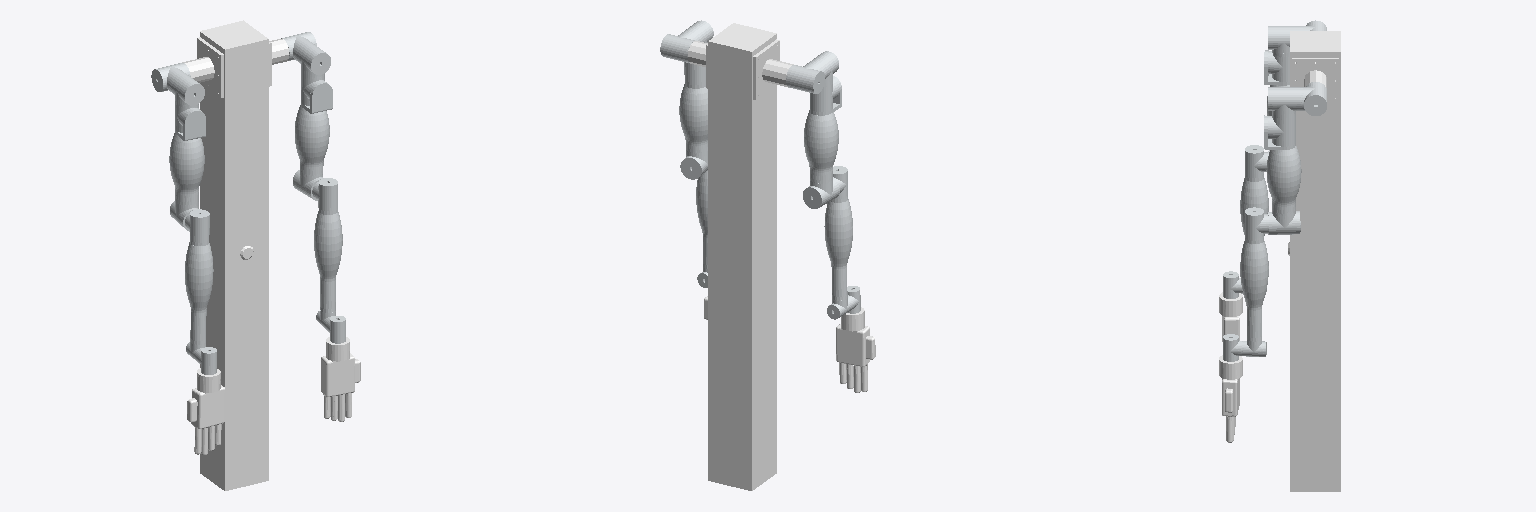
The robot description file, URDF, robot "hustdoublearm":
<robot
  name="hustdoublearm">
  <link name="world"/>
  <joint name="fixed" type="fixed">
    <parent link="world"/>
    <child link="base_link"/> 
  </joint>
  <link
    name="base_link">
    <inertial>
      <origin
        xyz="0 0 0.63203"
        rpy="0 0 0" />
      <mass
        value="20.813" />
      <inertia
        ixx="2.7544"
        ixy="0"
        ixz="0"
        iyy="2.7597"
        iyz="0"
        izz="0.061219" />
    </inertial>
    <visual>
      <origin
        xyz="0 0 0"
        rpy="0 0 0" />
      <geometry>
        <mesh
          filename="package://hustdoublearm/meshes/base_link.STL" />
      </geometry>
      <material
        name="">
        <color
          rgba="1 1 1 1" />
      </material>
    </visual>
    <collision>
      <origin
        xyz="0 0 0"
        rpy="0 0 0" />
      <geometry>
        <mesh
          filename="package://hustdoublearm/meshes/base_link.STL" />
      </geometry>
    </collision>
  </link>
  <link
    name="right_link1">
    <inertial>
      <origin
        xyz="0.0042186 0 0.00084454"
        rpy="0 0 0" />
      <mass
        value="0.68868" />
      <inertia
        ixx="0.00048923"
        ixy="0"
        ixz="0"
        iyy="0"
        iyz="0"
        izz="0.00038496" />
    </inertial>
    <visual>
      <origin
        xyz="0 0 0"
        rpy="0 0 0" />
      <geometry>
        <mesh
          filename="package://hustdoublearm/meshes/right_link1.STL" />
      </geometry>
      <material
        name="">
        <color
          rgba="0.89804 0.91765 0.92941 1" />
      </material>
    </visual>
    <collision>
      <origin
        xyz="0 0 0"
        rpy="0 0 0" />
      <geometry>
        <mesh
          filename="package://hustdoublearm/meshes/right_link1.STL" />
      </geometry>
    </collision>
  </link>
  <joint
    name="right_joint1"
    type="revolute">
    <origin
      xyz="-0.184 0 1.155"
      rpy="1.5708 -0.0011298 -1.5708" />
    <parent
      link="base_link" />
    <child
      link="right_link1" />
    <axis
      xyz="0 0 -1" />
    <limit 
    lower="-3.14"       
    upper="3.14"
    effort="1000"
    velocity="100" />
  </joint>
  <link
    name="right_link2">
    <inertial>
      <origin
        xyz="0.0042186 0 0.00084454"
        rpy="0 0 0" />
      <mass
        value="0.68868" />
      <inertia
        ixx="0.00048923"
        ixy="0"
        ixz="0"
        iyy="0"
        iyz="0"
        izz="0.00038496" />
    </inertial>
    <visual>
      <origin
        xyz="0 0 0"
        rpy="0 0 0" />
      <geometry>
        <mesh
          filename="package://hustdoublearm/meshes/right_link2.STL" />
      </geometry>
      <material
        name="">
        <color
          rgba="0.89804 0.91765 0.92941 1" />
      </material>
    </visual>
    <collision>
      <origin
        xyz="0 0 0"
        rpy="0 0 0" />
      <geometry>
        <mesh
          filename="package://hustdoublearm/meshes/right_link2.STL" />
      </geometry>
    </collision>
  </link>
  <joint
    name="right_joint2"
    type="revolute">
    <origin
      xyz="0.08 0 0"
      rpy="-1.5708 0.00082791 -1.5708" />
    <parent
      link="right_link1" />
    <child
      link="right_link2" />
    <axis
      xyz="0 0 -1" />
    <limit 
    lower="-3.14"       
    upper="3.14"
    effort="1000"
  velocity="100" />
  </joint>
  <link
    name="right_link3">
    <inertial>
      <origin
        xyz="0.0024759 0 -0.14834"
        rpy="0 0 0" />
      <mass
        value="3.131" />
      <inertia
        ixx="0.033509"
        ixy="0"
        ixz="0.0010795"
        iyy="0.033898"
        iyz="0"
        izz="0.0022582" />
    </inertial>
    <visual>
      <origin
        xyz="0 0 0"
        rpy="0 0 0" />
      <geometry>
        <mesh
          filename="package://hustdoublearm/meshes/right_link3.STL" />
      </geometry>
      <material
        name="">
        <color
          rgba="0.89804 0.91765 0.92941 1" />
      </material>
    </visual>
    <collision>
      <origin
        xyz="0 0 0"
        rpy="0 0 0" />
      <geometry>
        <mesh
          filename="package://hustdoublearm/meshes/right_link3.STL" />
      </geometry>
    </collision>
  </link>
  <joint
    name="right_joint3"
    type="revolute">
    <origin
      xyz="0.35 0 0"
      rpy="-1.5708 -1.4847 -1.5708" />
    <parent
      link="right_link2" />
    <child
      link="right_link3" />
    <axis
      xyz="0 0 -1" />
    <limit 
    lower="-3.14"       
    upper="3.14"
    effort="1000"
    velocity="100" />
  </joint>
  <link
    name="right_link4">
    <inertial>
      <origin
        xyz="-0.0012304 0 -0.0035566"
        rpy="0 0 0" />
      <mass
        value="0.41012" />
      <inertia
        ixx="0.00016028"
        ixy="0"
        ixz="0"
        iyy="0"
        iyz="0"
        izz="0.00021033" />
    </inertial>
    <visual>
      <origin
        xyz="0 0 0"
        rpy="0 0 0" />
      <geometry>
        <mesh
          filename="package://hustdoublearm/meshes/right_link4.STL" />
      </geometry>
      <material
        name="">
        <color
          rgba="0.89804 0.91765 0.92941 1" />
      </material>
    </visual>
    <collision>
      <origin
        xyz="0 0 0"
        rpy="0 0 0" />
      <geometry>
        <mesh
          filename="package://hustdoublearm/meshes/right_link4.STL" />
      </geometry>
    </collision>
  </link>
  <joint
    name="right_joint4"
    type="revolute">
    <origin
      xyz="0.075 0 0"
      rpy="1.5708 -1.5567 1.5708" />
    <parent
      link="right_link3" />
    <child
      link="right_link4" />
    <axis
      xyz="0 0 -1" />
    <limit 
    lower="-3.14"       
    upper="3.14"
    effort="1000"
    velocity="100" />
  </joint>
  <link
    name="right_link5">
    <inertial>
      <origin
        xyz="-0.00017625 0 -0.16373"
        rpy="0 0 0" />
      <mass
        value="1.2638" />
      <inertia
        ixx="0.012836"
        ixy="0"
        ixz="0"
        iyy="0"
        iyz="0"
        izz="0.00058313" />
    </inertial>
    <visual>
      <origin
        xyz="0 0 0"
        rpy="0 0 0" />
      <geometry>
        <mesh
          filename="package://hustdoublearm/meshes/right_link5.STL" />
      </geometry>
      <material
        name="">
        <color
          rgba="0.89804 0.91765 0.92941 1" />
      </material>
    </visual>
    <collision>
      <origin
        xyz="0 0 0"
        rpy="0 0 0" />
      <geometry>
        <mesh
          filename="package://hustdoublearm/meshes/right_link5.STL" />
      </geometry>
    </collision>
  </link>
  <joint
    name="right_joint5"
    type="revolute">
    <origin
      xyz="0.35 0 0"
      rpy="1.5708 -1.5342 1.5708" />
    <parent
      link="right_link4" />
    <child
      link="right_link5" />
    <axis
      xyz="0 0 -1" />
    <limit 
    lower="-3.14"       
    upper="3.14"
    effort="1000"
    velocity="100" />
  </joint>
  <link
    name="right_link6">
    <inertial>
      <origin
        xyz="-0.00097738 0 -0.0033271"
        rpy="0 0 0" />
      <mass
        value="0.2279" />
      <inertia
        ixx="0.000059519"
        ixy="0"
        ixz="0"
        iyy="0"
        iyz="0"
        izz="0.000081241" />
    </inertial>
    <visual>
      <origin
        xyz="0 0 0"
        rpy="0 0 0" />
      <geometry>
        <mesh
          filename="package://hustdoublearm/meshes/right_link6.STL" />
      </geometry>
      <material
        name="">
        <color
          rgba="0.89804 0.91765 0.92941 1" />
      </material>
    </visual>
    <collision>
      <origin
        xyz="0 0 0"
        rpy="0 0 0" />
      <geometry>
        <mesh
          filename="package://hustdoublearm/meshes/right_link6.STL" />
      </geometry>
    </collision>
  </link>
  <joint
    name="right_joint6"
    type="revolute">
    <origin
      xyz="0.06 0 0"
      rpy="1.5708 -1.5707 1.5708" />
    <parent
      link="right_link5" />
    <child
      link="right_link6" />
    <axis
      xyz="0 0 -1" />
    <limit 
    lower="-3.14"       
    upper="3.14"
    effort="1000"
    velocity="100" />
  </joint>
  <link
    name="right_link7">
    <inertial>
      <origin
        xyz="0 0.0023807 0.093766"
        rpy="0 0 0" />
      <mass
        value="0.56698" />
      <inertia
        ixx="0.0018193"
        ixy="0"
        ixz="0"
        iyy="0"
        iyz="0"
        izz="0.00038792" />
    </inertial>
    <visual>
      <origin
        xyz="0 0 0"
        rpy="0 0 0" />
      <geometry>
        <mesh
          filename="package://hustdoublearm/meshes/right_link7.STL" />
      </geometry>
      <material
        name="">
        <color
          rgba="1 1 1 1" />
      </material>
    </visual>
    <collision>
      <origin
        xyz="0 0 0"
        rpy="0 0 0" />
      <geometry>
        <mesh
          filename="package://hustdoublearm/meshes/right_link7.STL" />
      </geometry>
    </collision>
  </link>
  <joint
    name="right_joint7"
    type="revolute">
    <origin
      xyz="0.03 0 0"
      rpy="1.5708 -1.4552 1.5708" />
    <parent
      link="right_link6" />
    <child
      link="right_link7" />
    <axis
      xyz="0 0 1" />
    <limit 
    lower="-3.14"       
    upper="3.14"
    effort="1000"
    velocity="100" />
  </joint>

  <link
    name="left_link1">
    <inertial>
      <origin
        xyz="0.0042186 0 0.00084454"
        rpy="0 0 0" />
      <mass
        value="0.68868" />
      <inertia
        ixx="0.00048923"
        ixy="0"
        ixz="0"
        iyy="0"
        iyz="0"
        izz="0.00038496" />
    </inertial>
    <visual>
      <origin
        xyz="0 0 0"
        rpy="0 0 0" />
      <geometry>
        <mesh
          filename="package://hustdoublearm/meshes/left_link1.STL" />
      </geometry>
      <material
        name="">
        <color
          rgba="0.89804 0.91765 0.92941 1" />
      </material>
    </visual>
    <collision>
      <origin
        xyz="0 0 0"
        rpy="0 0 0" />
      <geometry>
        <mesh
          filename="package://hustdoublearm/meshes/left_link1.STL" />
      </geometry>
    </collision>
  </link>
  <joint
    name="left_joint1"
    type="revolute">
    <origin
      xyz="0.184 0 1.155"
      rpy="-1.5708 -0.0015412 -1.5708" />
    <parent
      link="base_link" />
    <child
      link="left_link1" />
    <axis
      xyz="0 0 -1" />
    <limit 
    lower="-3.14"       
    upper="3.14"
    effort="1000"
    velocity="100" />
  </joint>
  <link
    name="left_link2">
    <inertial>
      <origin
        xyz="0.0042186 0 0.00084454"
        rpy="0 0 0" />
      <mass
        value="0.68868" />
      <inertia
        ixx="0.00048923"
        ixy="0"
        ixz="0"
        iyy="0"
        iyz="0"
        izz="0.00038496" />
    </inertial>
    <visual>
      <origin
        xyz="0 0 0"
        rpy="0 0 0" />
      <geometry>
        <mesh
          filename="package://hustdoublearm/meshes/left_link2.STL" />
      </geometry>
      <material
        name="">
        <color
          rgba="0.89804 0.91765 0.92941 1" />
      </material>
    </visual>
    <collision>
      <origin
        xyz="0 0 0"
        rpy="0 0 0" />
      <geometry>
        <mesh
          filename="package://hustdoublearm/meshes/left_link2.STL" />
      </geometry>
    </collision>
  </link>
  <joint
    name="left_joint2"
    type="revolute">
    <origin
      xyz="0.08 0 0"
      rpy="1.5708 0.016458 1.5708" />
    <parent
      link="left_link1" />
    <child
      link="left_link2" />
    <axis
      xyz="0 0 -1" />
    <limit 
    lower="-3.14"       
    upper="3.14"
    effort="1000"
    velocity="100" />
  </joint>
  <link
    name="left_link3">
    <inertial>
      <origin
        xyz="0.0024641 0.00025279 -0.14054"
        rpy="0 0 0" />
      <mass
        value="3.131" />
      <inertia
        ixx="0.03158"
        ixy="0"
        ixz="0.0010523"
        iyy="0.031965"
        iyz="0"
        izz="0.0022582" />
    </inertial>
    <visual>
      <origin
        xyz="0 0 0"
        rpy="0 0 0" />
      <geometry>
        <mesh
          filename="package://hustdoublearm/meshes/left_link3.STL" />
      </geometry>
      <material
        name="">
        <color
          rgba="0.89804 0.91765 0.92941 1" />
      </material>
    </visual>
    <collision>
      <origin
        xyz="0 0 0"
        rpy="0 0 0" />
      <geometry>
        <mesh
          filename="package://hustdoublearm/meshes/left_link3.STL" />
      </geometry>
    </collision>
  </link>
  <joint
    name="left_joint3"
    type="revolute">
    <origin
      xyz="0.35 0 0"
      rpy="1.5708 -1.4847 1.5708" />
    <parent
      link="left_link2" />
    <child
      link="left_link3" />
    <axis
      xyz="0 0 -1" />
    <limit 
    lower="-3.14"       
    upper="3.14"
    effort="1000"
    velocity="100" />
  </joint>
  <link
    name="left_link4">
    <inertial>
      <origin
        xyz="-0.0012304 0 -0.0035566"
        rpy="0 0 0" />
      <mass
        value="0.41012" />
      <inertia
        ixx="0.00016028"
        ixy="0"
        ixz="0"
        iyy="0"
        iyz="0"
        izz="0.00021033" />
    </inertial>
    <visual>
      <origin
        xyz="0 0 0"
        rpy="0 0 0" />
      <geometry>
        <mesh
          filename="package://hustdoublearm/meshes/left_link4.STL" />
      </geometry>
      <material
        name="">
        <color
          rgba="0.89804 0.91765 0.92941 1" />
      </material>
    </visual>
    <collision>
      <origin
        xyz="0 0 0"
        rpy="0 0 0" />
      <geometry>
        <mesh
          filename="package://hustdoublearm/meshes/left_link4.STL" />
      </geometry>
    </collision>
  </link>
  <joint
    name="left_joint4"
    type="revolute">
    <origin
      xyz="0.075 0 0"
      rpy="-1.5708 -1.5567 -1.5708" />
    <parent
      link="left_link3" />
    <child
      link="left_link4" />
    <axis
      xyz="0 0 -1" />
    <limit 
    lower="-3.14"       
    upper="3.14"
    effort="1000"
    velocity="100" />
  </joint>
  <link
    name="left_link5">
    <inertial>
      <origin
        xyz="-0.00017625 0 -0.16373"
        rpy="0 0 0" />
      <mass
        value="1.2638" />
      <inertia
        ixx="0.012836"
        ixy="0"
        ixz="0"
        iyy="0"
        iyz="0"
        izz="0.00058313" />
    </inertial>
    <visual>
      <origin
        xyz="0 0 0"
        rpy="0 0 0" />
      <geometry>
        <mesh
          filename="package://hustdoublearm/meshes/left_link5.STL" />
      </geometry>
      <material
        name="">
        <color
          rgba="0.89804 0.91765 0.92941 1" />
      </material>
    </visual>
    <collision>
      <origin
        xyz="0 0 0"
        rpy="0 0 0" />
      <geometry>
        <mesh
          filename="package://hustdoublearm/meshes/left_link5.STL" />
      </geometry>
    </collision>
  </link>
  <joint
    name="left_joint5"
    type="revolute">
    <origin
      xyz="0.35 0 0"
      rpy="-1.5708 -1.3914 -1.5708" />
    <parent
      link="left_link4" />
    <child
      link="left_link5" />
    <axis
      xyz="0 0 -1" />
    <limit 
    lower="-3.14"       
    upper="3.14"
    effort="1000"
    velocity="100" />
  </joint>
  <link
    name="left_link6">
    <inertial>
      <origin
        xyz="-0.00097738 0 -0.0033271"
        rpy="0 0 0" />
      <mass
        value="0.2279" />
      <inertia
        ixx="0.000059519"
        ixy="0"
        ixz="0"
        iyy="0"
        iyz="0"
        izz="0.000081241" />
    </inertial>
    <visual>
      <origin
        xyz="0 0 0"
        rpy="0 0 0" />
      <geometry>
        <mesh
          filename="package://hustdoublearm/meshes/left_link6.STL" />
      </geometry>
      <material
        name="">
        <color
          rgba="0.89804 0.91765 0.92941 1" />
      </material>
    </visual>
    <collision>
      <origin
        xyz="0 0 0"
        rpy="0 0 0" />
      <geometry>
        <mesh
          filename="package://hustdoublearm/meshes/left_link6.STL" />
      </geometry>
    </collision>
  </link>
  <joint
    name="left_joint6"
    type="revolute">
    <origin
      xyz="0.06 0 0"
      rpy="-0.83867 -1.5708 -2.3029" />
    <parent
      link="left_link5" />
    <child
      link="left_link6" />
    <axis
      xyz="0 0 -1" />
    <limit 
    lower="-3.14"      
     upper="3.14"
    effort="1000"
    velocity="100" />
  </joint>
  <link
    name="left_link7">
    <inertial>
      <origin
        xyz="-0.0023807 0 0.093766"
        rpy="0 0 0" />
      <mass
        value="0.56698" />
      <inertia
        ixx="0.0015848"
        ixy="0"
        ixz="0"
        iyy="0"
        iyz="0"
        izz="0.00038792" />
    </inertial>
    <visual>
      <origin
        xyz="0 0 0"
        rpy="0 0 0" />
      <geometry>
        <mesh
          filename="package://hustdoublearm/meshes/left_link7.STL" />
      </geometry>
      <material
        name="">
        <color
          rgba="1 1 1 1" />
      </material>
    </visual>
    <collision>
      <origin
        xyz="0 0 0"
        rpy="0 0 0" />
      <geometry>
        <mesh
          filename="package://hustdoublearm/meshes/left_link7.STL" />
      </geometry>
    </collision>
  </link>
  <joint
    name="left_joint7"
    type="revolute">
    <origin
      xyz="0.03 0 0"
      rpy="-1.5708 0 -1.5708" />
    <parent
      link="left_link6" />
    <child
      link="left_link7" />
    <axis
      xyz="0 0 1" />
    <limit 
    lower="-3.14"       
    upper="3.14"
    effort="1000"
    velocity="100" />
  </joint>

  <transmission name="left_tran1">
    <type>transmission_interface/SimpleTransmission</type>
    <joint name="left_joint1">
      <hardwareInterface>hardware_interface/VelocityJointInterface</hardwareInterface>
    </joint>
    <actuator name="left_motor1">
      <hardwareInterface>hardware_interface/VelocityJointInterface</hardwareInterface>
      <mechanicalReduction>1</mechanicalReduction>
    </actuator>
  </transmission>
  <transmission name="left_tran2">
    <type>transmission_interface/SimpleTransmission</type>
    <joint name="left_joint2">
      <hardwareInterface>hardware_interface/VelocityJointInterface</hardwareInterface>
    </joint>
    <actuator name="left_motor2">
      <hardwareInterface>hardware_interface/VelocityJointInterface</hardwareInterface>
      <mechanicalReduction>1</mechanicalReduction>
    </actuator>
  </transmission>
  <transmission name="left_tran3">
    <type>transmission_interface/SimpleTransmission</type>
    <joint name="left_joint3">
      <hardwareInterface>hardware_interface/VelocityJointInterface</hardwareInterface>
    </joint>
    <actuator name="left_motor3">
      <hardwareInterface>hardware_interface/VelocityJointInterface</hardwareInterface>
      <mechanicalReduction>1</mechanicalReduction>
    </actuator>
  </transmission>
  <transmission name="left_tran4">
    <type>transmission_interface/SimpleTransmission</type>
    <joint name="left_joint4">
      <hardwareInterface>hardware_interface/VelocityJointInterface</hardwareInterface>
    </joint>
    <actuator name="left_motor4">
      <hardwareInterface>hardware_interface/VelocityJointInterface</hardwareInterface>
      <mechanicalReduction>1</mechanicalReduction>
    </actuator>
  </transmission>
  <transmission name="left_tran5">
    <type>transmission_interface/SimpleTransmission</type>
    <joint name="left_joint5">
      <hardwareInterface>hardware_interface/VelocityJointInterface</hardwareInterface>
    </joint>
    <actuator name="left_motor5">
      <hardwareInterface>hardware_interface/VelocityJointInterface</hardwareInterface>
      <mechanicalReduction>1</mechanicalReduction>
    </actuator>
  </transmission>
  <transmission name="left_tran6">
    <type>transmission_interface/SimpleTransmission</type>
    <joint name="left_joint6">
      <hardwareInterface>hardware_interface/VelocityJointInterface</hardwareInterface>
    </joint>
    <actuator name="left_motor6">
      <hardwareInterface>hardware_interface/VelocityJointInterface</hardwareInterface>
      <mechanicalReduction>1</mechanicalReduction>
    </actuator>
  </transmission>
  <transmission name="left_tran7">
    <type>transmission_interface/SimpleTransmission</type>
    <joint name="left_joint7">
      <hardwareInterface>hardware_interface/VelocityJointInterface</hardwareInterface>
    </joint>
    <actuator name="left_motor7">
      <hardwareInterface>hardware_interface/VelocityJointInterface</hardwareInterface>
      <mechanicalReduction>1</mechanicalReduction>
    </actuator>
  </transmission>

  <transmission name="right_tran1">
    <type>transmission_interface/SimpleTransmission</type>
    <joint name="right_joint1">
      <hardwareInterface>hardware_interface/VelocityJointInterface</hardwareInterface>
    </joint>
    <actuator name="right_motor1">
      <hardwareInterface>hardware_interface/VelocityJointInterface</hardwareInterface>
      <mechanicalReduction>1</mechanicalReduction>
    </actuator>
  </transmission>
  <transmission name="right_tran2">
    <type>transmission_interface/SimpleTransmission</type>
    <joint name="right_joint2">
      <hardwareInterface>hardware_interface/VelocityJointInterface</hardwareInterface>
    </joint>
    <actuator name="right_motor2">
      <hardwareInterface>hardware_interface/VelocityJointInterface</hardwareInterface>
      <mechanicalReduction>1</mechanicalReduction>
    </actuator>
  </transmission>
  <transmission name="right_tran3">
    <type>transmission_interface/SimpleTransmission</type>
    <joint name="right_joint3">
      <hardwareInterface>hardware_interface/VelocityJointInterface</hardwareInterface>
    </joint>
    <actuator name="right_motor3">
      <hardwareInterface>hardware_interface/VelocityJointInterface</hardwareInterface>
      <mechanicalReduction>1</mechanicalReduction>
    </actuator>
  </transmission>
  <transmission name="right_tran4">
    <type>transmission_interface/SimpleTransmission</type>
    <joint name="right_joint4">
      <hardwareInterface>hardware_interface/VelocityJointInterface</hardwareInterface>
    </joint>
    <actuator name="right_motor4">
      <hardwareInterface>hardware_interface/VelocityJointInterface</hardwareInterface>
      <mechanicalReduction>1</mechanicalReduction>
    </actuator>
  </transmission>
  <transmission name="right_tran5">
    <type>transmission_interface/SimpleTransmission</type>
    <joint name="right_joint5">
      <hardwareInterface>hardware_interface/VelocityJointInterface</hardwareInterface>
    </joint>
    <actuator name="right_motor5">
      <hardwareInterface>hardware_interface/VelocityJointInterface</hardwareInterface>
      <mechanicalReduction>1</mechanicalReduction>
    </actuator>
  </transmission>
  <transmission name="right_tran6">
    <type>transmission_interface/SimpleTransmission</type>
    <joint name="right_joint6">
      <hardwareInterface>hardware_interface/VelocityJointInterface</hardwareInterface>
    </joint>
    <actuator name="right_motor6">
      <hardwareInterface>hardware_interface/VelocityJointInterface</hardwareInterface>
      <mechanicalReduction>1</mechanicalReduction>
    </actuator>
  </transmission>
  <transmission name="right_tran7">
    <type>transmission_interface/SimpleTransmission</type>
    <joint name="right_joint7">
      <hardwareInterface>hardware_interface/VelocityJointInterface</hardwareInterface>
    </joint>
    <actuator name="right_motor7">
      <hardwareInterface>hardware_interface/VelocityJointInterface</hardwareInterface>
      <mechanicalReduction>1</mechanicalReduction>
    </actuator>
  </transmission>
  <gazebo>
    <plugin filename="libgazebo_ros_control.so" name="gazebo_ros_control">
      <robotNamespace>/hustdoublearm</robotNamespace>
      <robotSimType>gazebo_ros_control/DefaultRobotHWSim</robotSimType>
    </plugin>
  </gazebo>
</robot>

--- What the picture shows (computed from the rendered views, not written in the file) ---
The picture shows the robot from 3 angles, left to right: view 1: azimuth 30°, elevation 25°; view 2: azimuth 150°, elevation 25°; view 3: azimuth 270°, elevation 25°; orthographic projection.
Robot: hustdoublearm — 16 links, 15 joints (14 revolute, 1 fixed); root link world; default pose: every joint at zero.
Visible links, largest first — view 1: base_link, left_link3, right_link3, left_link7, left_link5, right_link5, right_link7, left_link2, right_link2, left_link4, right_link4, right_link1; view 2: base_link, right_link3, left_link3, right_link5, right_link7, left_link5, right_link1, left_link1; view 3: base_link, left_link3, left_link5, left_link7, right_link5, left_link2, right_link3, left_link1, right_link7, left_link4, right_link4, right_link2.
Link boxes in pixels (box(x1,y1,x2,y2)): base_link: box(182, 20, 289, 490); left_link3: box(293, 74, 332, 200); right_link3: box(169, 101, 205, 231); left_link7: box(321, 337, 360, 421); left_link5: box(314, 209, 342, 329); right_link5: box(185, 240, 213, 360); right_link7: box(187, 368, 224, 454); left_link2: box(295, 41, 330, 77); right_link2: box(169, 72, 204, 107); left_link4: box(312, 178, 337, 210); right_link4: box(185, 209, 209, 242); right_link1: box(151, 63, 190, 91); base_link: box(688, 23, 793, 490); right_link3: box(803, 76, 841, 208); left_link3: box(679, 62, 707, 179); right_link5: box(824, 197, 852, 319); right_link7: box(836, 307, 875, 392); left_link5: box(696, 170, 707, 287); right_link1: box(786, 63, 824, 93); left_link1: box(660, 32, 696, 62); base_link: box(1288, 31, 1340, 491); left_link3: box(1264, 114, 1301, 234); left_link5: box(1240, 238, 1268, 356); left_link7: box(1219, 355, 1242, 442); right_link5: box(1240, 176, 1268, 292); left_link2: box(1268, 87, 1299, 117); right_link3: box(1264, 50, 1289, 155); left_link1: box(1300, 82, 1326, 115); right_link7: box(1219, 292, 1242, 341); left_link4: box(1245, 207, 1268, 240); right_link4: box(1245, 145, 1267, 177); right_link2: box(1268, 26, 1299, 56).
Bounding box of the posed robot: 0.4982 × 0.3091 × 1.23 m (x, y, z).
15 mesh visuals loaded from 15 distinct referenced files (15 binary STL).
